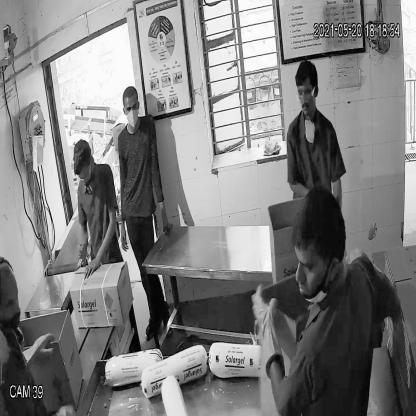goggles: (294, 85, 318, 103)
no_goggles: (122, 101, 140, 113)
